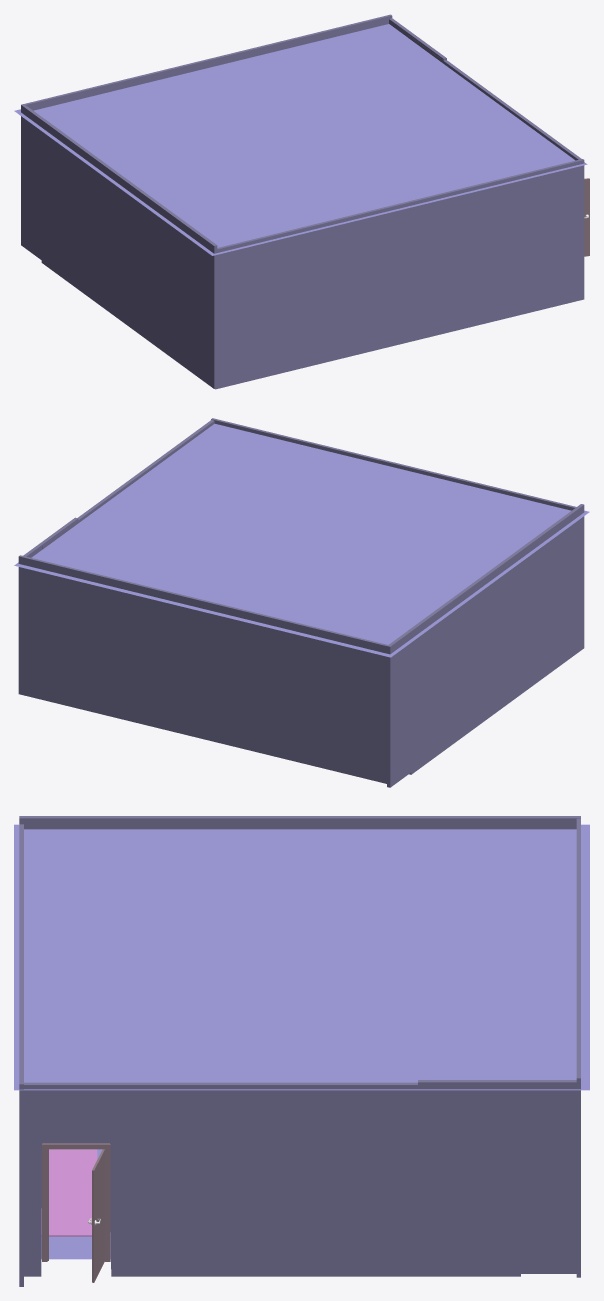
File: future.glb
3 renders of one model, top to bottom at view 1: azimuth 30°, elevation 25°; view 2: azimuth 150°, elevation 25°; view 3: azimuth 270°, elevation 25°, orthographic. The views are drawn at different scales.
Visible parts, largest first — view 1: Plane.001, Wall2.002, Wall2.003, Wall2.001, Wall2.004, Wall4.001; view 2: Plane.001, Wall2.001, Wall2.003, Wall2.004, Wall2.002, Wall4.001; view 3: Plane.001, Wall4.001, Wall2.005, Wall2.003, Cube.432, Wall2.002, DoorFrame.001, Wall2.001, Wall2.004, Door.001, Plane.
Boxes of the visible parts, <box> form: Plane.001: <box>14,24,587,255</box>; Wall2.002: <box>215,159,584,389</box>; Wall2.003: <box>41,119,217,388</box>; Wall2.001: <box>24,14,392,110</box>; Wall2.004: <box>21,104,74,262</box>; Wall4.001: <box>408,35,581,160</box>; Plane.001: <box>14,423,589,657</box>; Wall2.001: <box>18,555,389,784</box>; Wall2.003: <box>408,504,584,774</box>; Wall2.004: <box>387,607,444,787</box>; Wall2.002: <box>211,418,576,510</box>; Wall4.001: <box>42,420,214,548</box>; Plane.001: <box>14,824,589,1090</box>; Wall4.001: <box>24,1082,520,1276</box>; Wall2.005: <box>418,1080,577,1273</box>; Wall2.003: <box>19,816,519,829</box>; Cube.432: <box>41,1149,97,1236</box>; Wall2.002: <box>19,824,23,1286</box>; DoorFrame.001: <box>42,1143,110,1261</box>; Wall2.001: <box>576,818,580,1277</box>; Wall2.004: <box>422,816,580,829</box>; Door.001: <box>92,1149,104,1282</box>; Plane: <box>41,1149,110,1259</box>.
Size of the model in its own units: 11.32 by 3.84 by 9.61.
